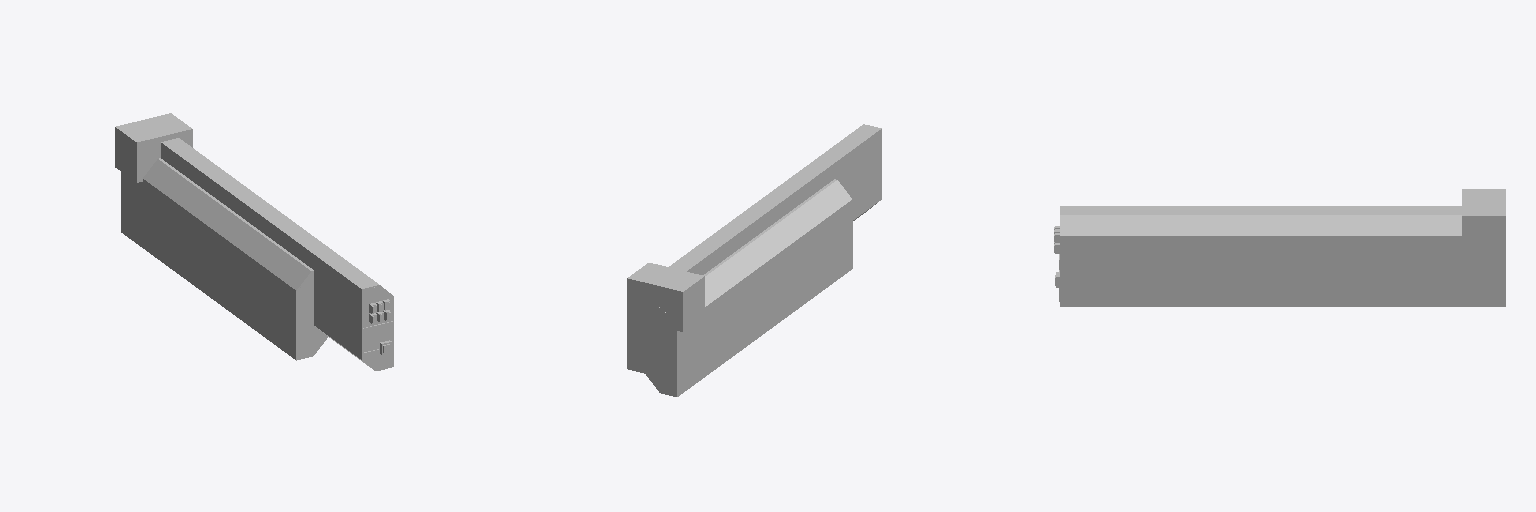
File: PlayBuilding_7.obj
The picture shows the model from 3 angles: view 1: azimuth 30°, elevation 25°; view 2: azimuth 150°, elevation 25°; view 3: azimuth 270°, elevation 25°; orthographic projection.
Parts seen in each view (by area): view 1: 立方体.002; view 2: 立方体.002; view 3: 立方体.002.
Boxes of the visible parts, <box> form: 立方体.002: <box>115,113,393,370</box>; 立方体.002: <box>627,124,881,396</box>; 立方体.002: <box>1054,189,1505,306</box>.
Bounding box in the file's own units: 25.09 × 45.63 × 175.